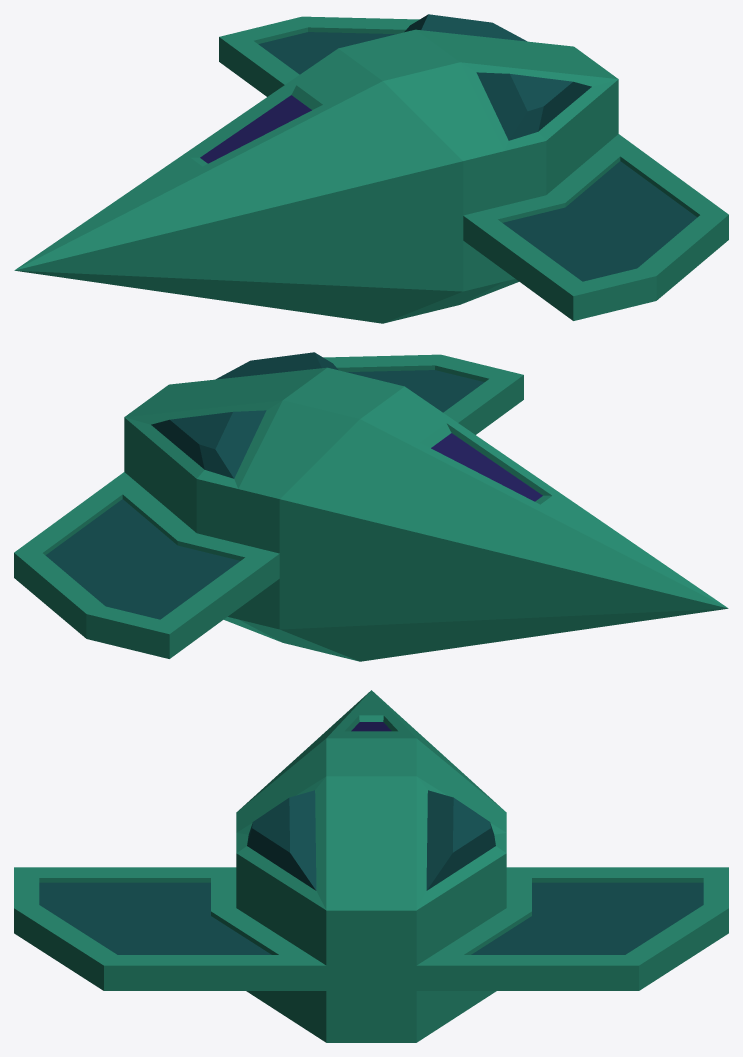
Rendered from Tracker.fbx.
3 views of the same model, one above another, from view 1: azimuth 30°, elevation 25°; view 2: azimuth 150°, elevation 25°; view 3: azimuth 270°, elevation 25° (orthographic).
Parts seen in each view (by area): view 1: tracker; view 2: tracker; view 3: tracker.
Boxes of the visible parts, box(x1,y1,x2,y2) form: tracker: box(14, 14, 728, 323); tracker: box(14, 352, 728, 661); tracker: box(14, 690, 728, 1042).
Bounding box in the file's own units: 322 × 128 × 339.
